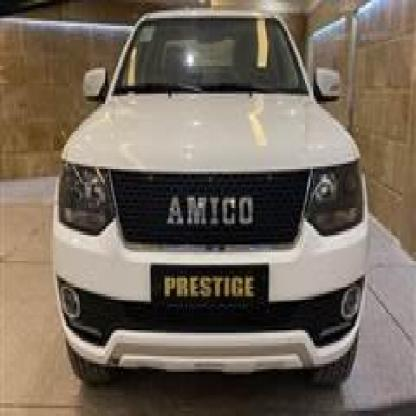Car: (38, 11, 369, 406)
